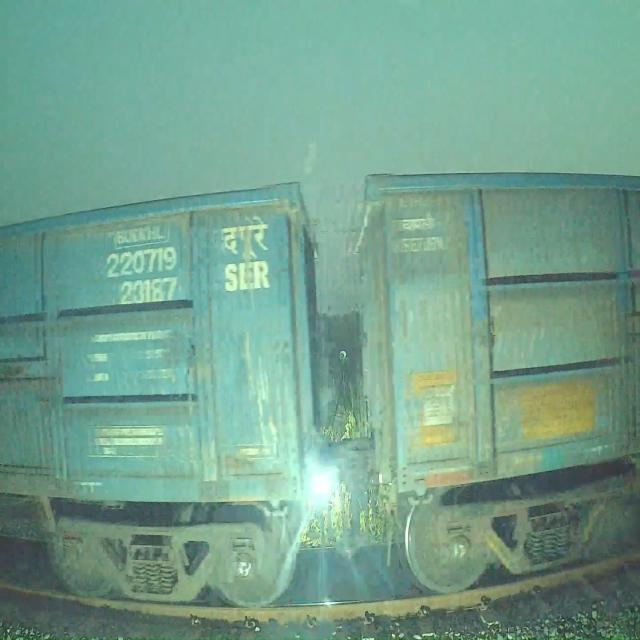WAgon-uic: (0, 168, 337, 616), (347, 166, 640, 599)
uic: (104, 242, 184, 309)
